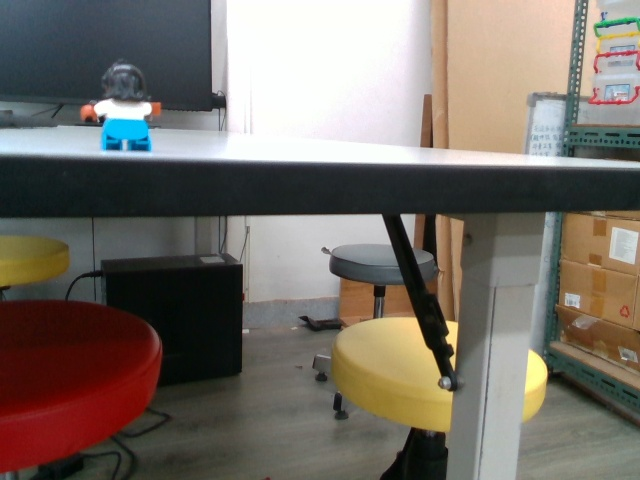people: (79, 57, 162, 156)
